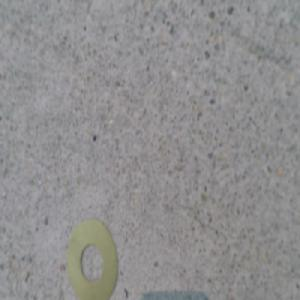Washer: (66, 212, 117, 299)
